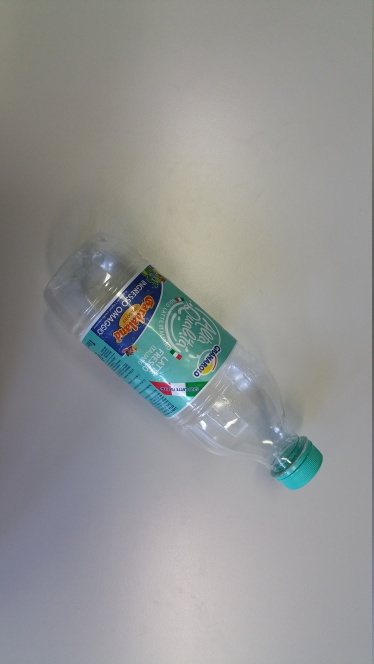bottle: (33, 223, 326, 494)
